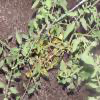Tomato leaf bacterial spot: (64, 21, 76, 39), (64, 9, 79, 18), (72, 37, 80, 53), (81, 15, 89, 31), (35, 12, 48, 21), (59, 60, 68, 72), (21, 33, 31, 43), (31, 64, 38, 78), (49, 25, 56, 39), (55, 26, 62, 39), (32, 20, 40, 31), (67, 57, 73, 69)
